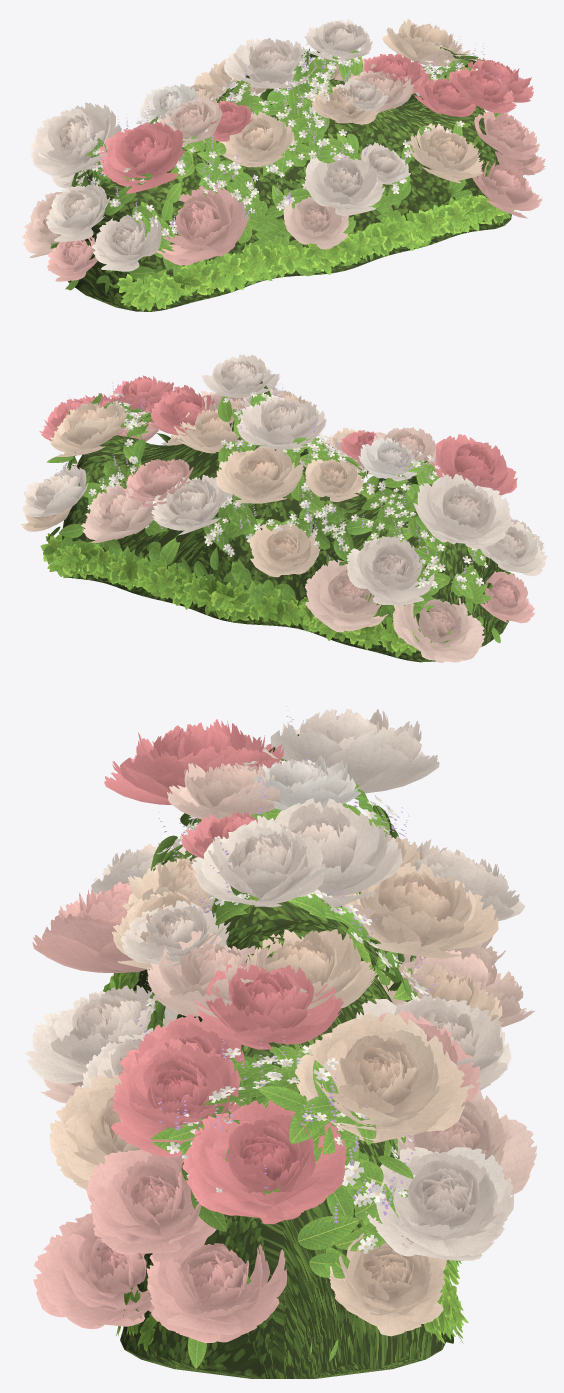
The model's file is kk1002C_sample.glb.
The picture shows the model from 3 angles, top to bottom: view 1: azimuth 30°, elevation 25°; view 2: azimuth 150°, elevation 25°; view 3: azimuth 270°, elevation 25°; orthographic projection. The views are drawn at different scales.
Visible parts, largest first — view 1: FlowerBank_1m; view 2: FlowerBank_1m; view 3: FlowerBank_1m.
Part boxes in pixels (x1,y1,x2,y2): FlowerBank_1m: (21, 18, 545, 311); FlowerBank_1m: (21, 354, 547, 662); FlowerBank_1m: (25, 706, 536, 1378).
Bounding box in the file's own units: 1.33 × 0.5312 × 0.6543.
Materials: 5 (4 with a texture image).
